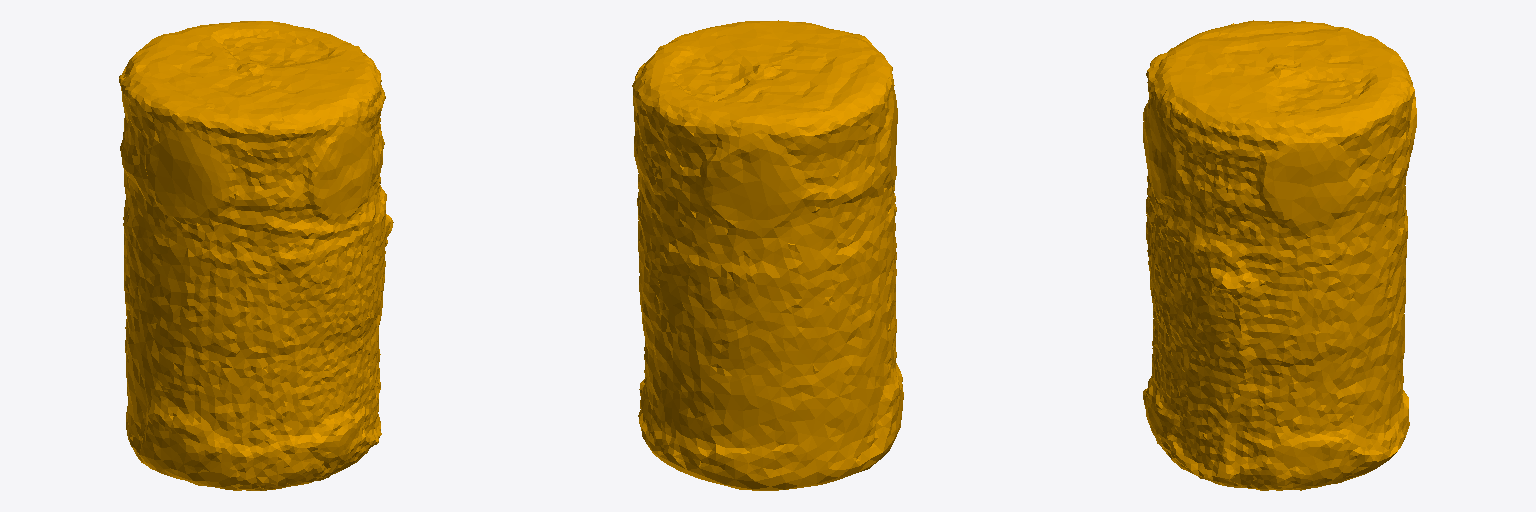
The robot description file, URDF, robot "salt_can":
<?xml version='1.0' encoding='utf-8'?>
<robot name="salt_can">
  <link name="salt_can">
    <visual>
      <origin xyz="0 0 0" rpy="0 0 0" />
      <geometry>
        <mesh filename="salt_can.obj" scale="1 1 1" />
      </geometry>
    </visual>
    <collision>
      <origin xyz="0 0 0" rpy="0 0 0" />
      <geometry>
        <mesh filename="salt_can_collision/decomp_0.obj" scale="1 1 1" />
      </geometry>
    </collision>
    <collision>
      <origin xyz="0 0 0" rpy="0 0 0" />
      <geometry>
        <mesh filename="salt_can_collision/decomp_1.obj" scale="1 1 1" />
      </geometry>
    </collision>
    <collision>
      <origin xyz="0 0 0" rpy="0 0 0" />
      <geometry>
        <mesh filename="salt_can_collision/decomp_2.obj" scale="1 1 1" />
      </geometry>
    </collision>
    <collision>
      <origin xyz="0 0 0" rpy="0 0 0" />
      <geometry>
        <mesh filename="salt_can_collision/decomp_3.obj" scale="1 1 1" />
      </geometry>
    </collision>
    <collision>
      <origin xyz="0 0 0" rpy="0 0 0" />
      <geometry>
        <mesh filename="salt_can_collision/decomp_4.obj" scale="1 1 1" />
      </geometry>
    </collision>
    <inertial>
      <origin xyz="-0.000378875 -0.000292987 0.000626914" rpy="0 0 0" />
      <mass value="0.074107" />
      <inertia ixx="5.25402e-05" ixy="-8.45145e-09" ixz="-3.81414e-07" iyy="5.24827e-05" iyz="-3.52865e-07" izz="2.38394e-05" />
    </inertial>
  </link>
</robot>

--- Facts derived from the render (not from the file) ---
Views: 3 orthographic renders of the robot side by side, from view 1: azimuth 30°, elevation 25°; view 2: azimuth 150°, elevation 25°; view 3: azimuth 270°, elevation 25°.
Robot: salt_can — 1 links, 0 joints (none); root link salt_can; default pose: all joints at 0.
Links seen in each view (by area): view 1: salt_can; view 2: salt_can; view 3: salt_can.
Boxes of the visible links, <box> form: salt_can: <box>119,21,393,490</box>; salt_can: <box>632,20,903,490</box>; salt_can: <box>1143,20,1416,490</box>.
Bounding box of the posed robot: 0.0523 × 0.0532 × 0.0817 m (x, y, z).
Meshes: 1 distinct files referenced, 1 mesh visuals loaded (1 OBJ).
